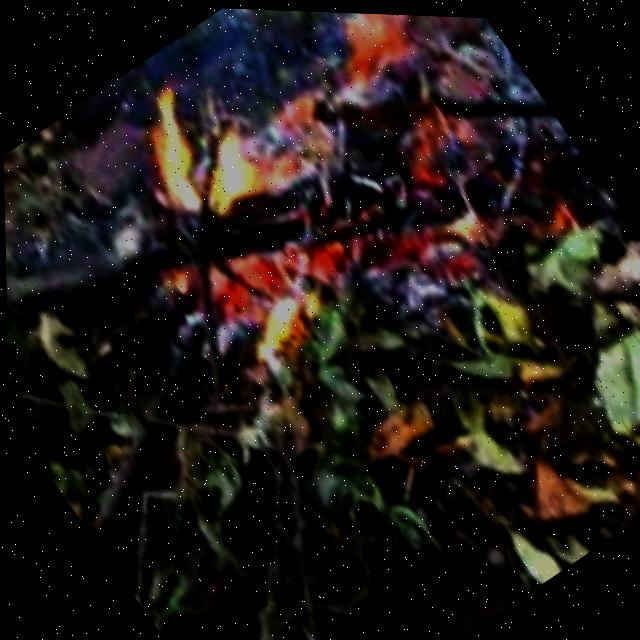Fire: (47, 1, 571, 415)
